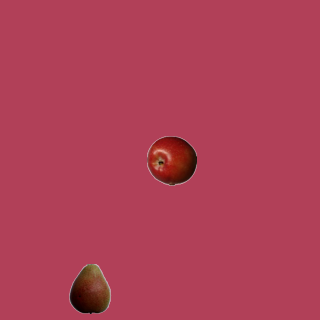Apple Braeburn: (146, 135, 196, 185)
Pear Forelle: (64, 263, 114, 313)
